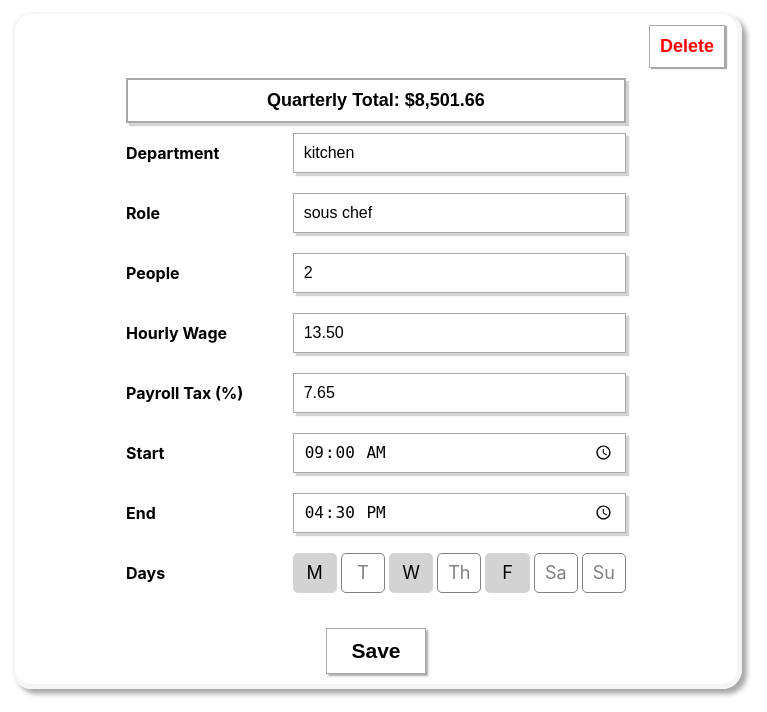
Test case: ShiftForm, days › Renders an error if no checkboxes are checked
The width and height of the screenshot is (767, 712).
Click the checkbox with class "toggle-container__input_days" at (315, 573), box top-left (293, 553), bottom-right (337, 593)
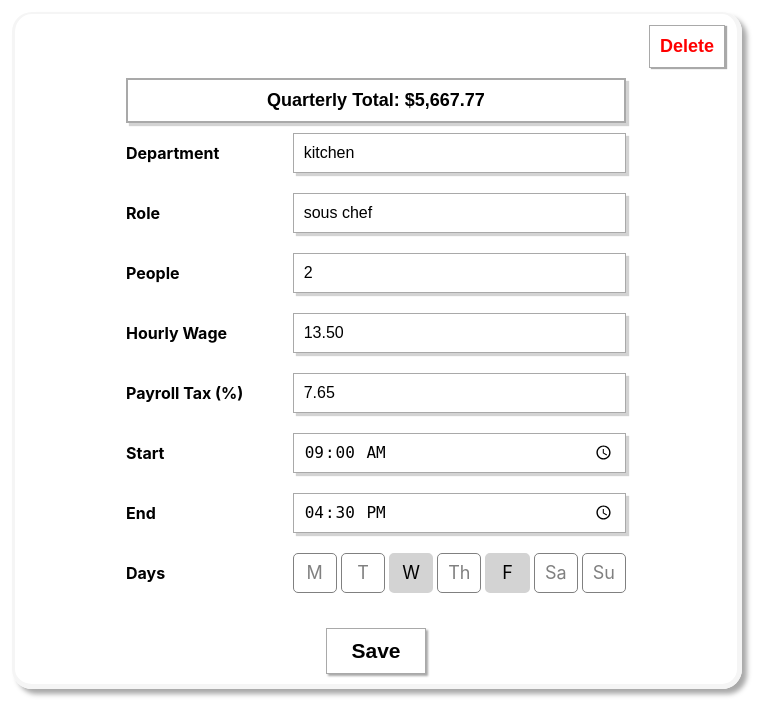
Click the checkbox with class "toggle-container__input_days" at (411, 573), box top-left (389, 553), bottom-right (433, 593)
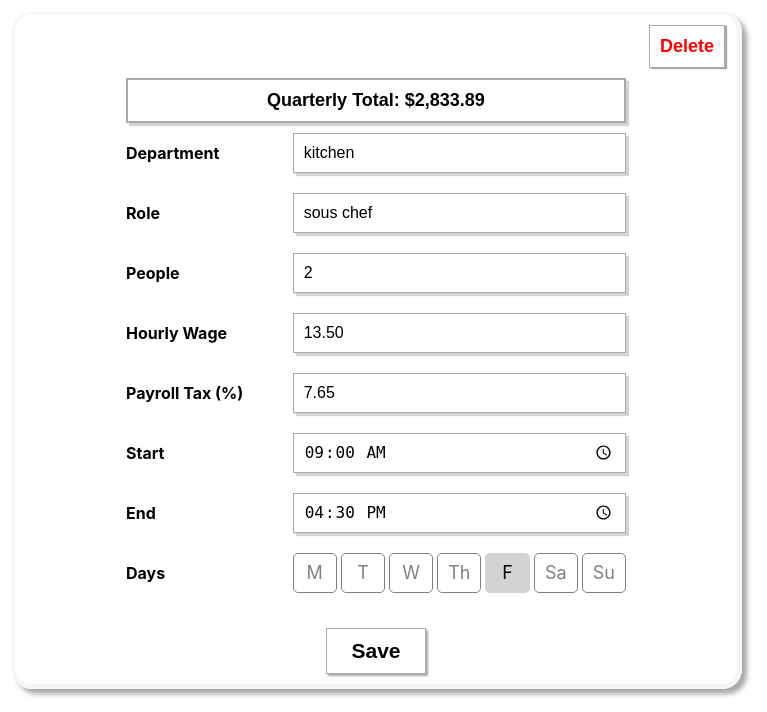
Click the checkbox with class "toggle-container__input_days" at (508, 573), box top-left (485, 553), bottom-right (530, 593)
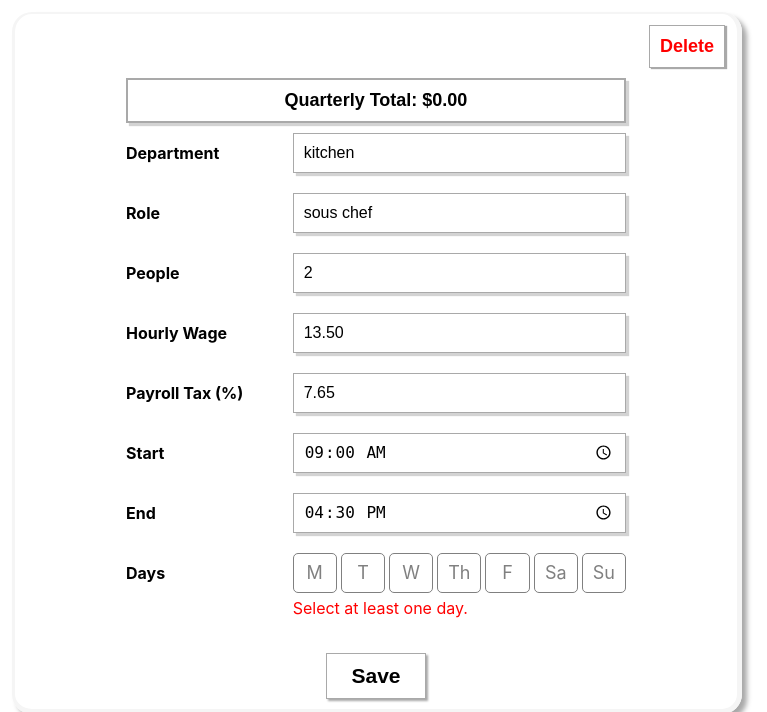
Result: the number of elements with class "form-error" is 1 at top-left (293, 598), bottom-right (468, 618)
